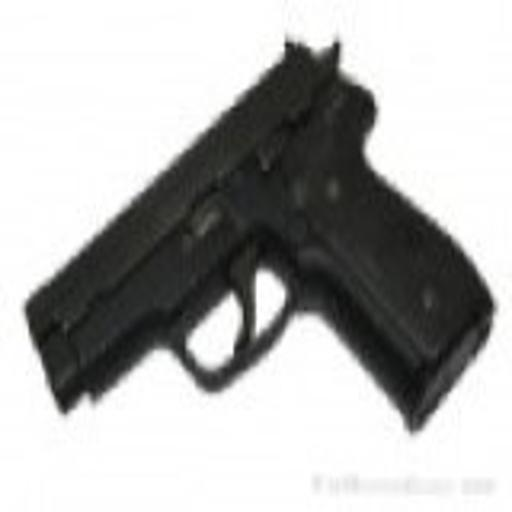Handgun: (24, 37, 491, 434)
